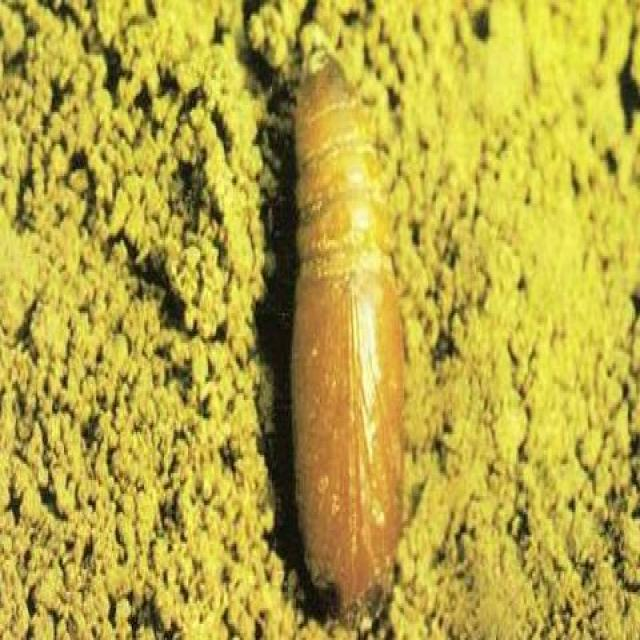black cutworm: (282, 49, 430, 625)
